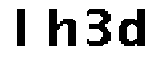3: (84, 5, 113, 48)
d: (116, 5, 148, 50)
h: (47, 7, 78, 52)
l: (12, 6, 35, 49)
